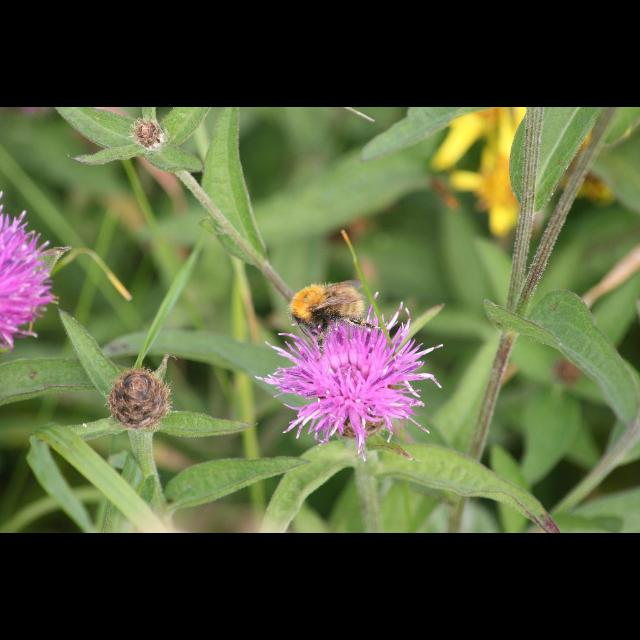Flower: (262, 317, 440, 451), (428, 107, 588, 243), (0, 175, 60, 369)
